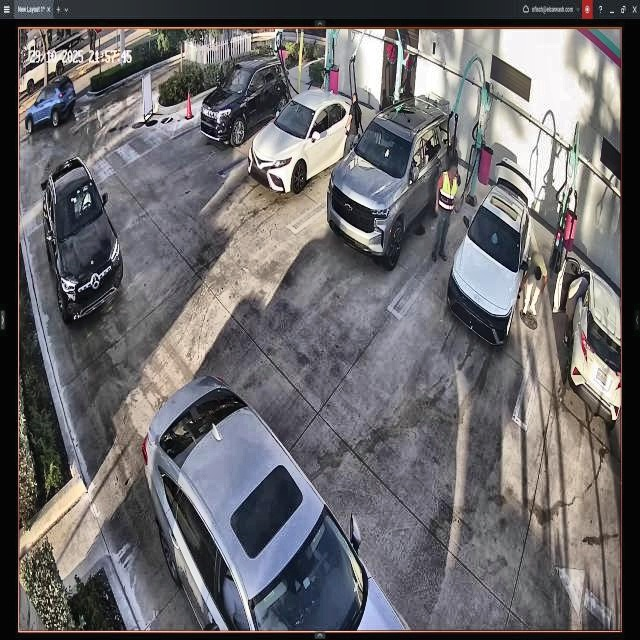Car: (144, 368, 413, 632), (328, 103, 455, 270), (452, 168, 533, 348), (248, 89, 357, 190), (199, 57, 288, 145)
